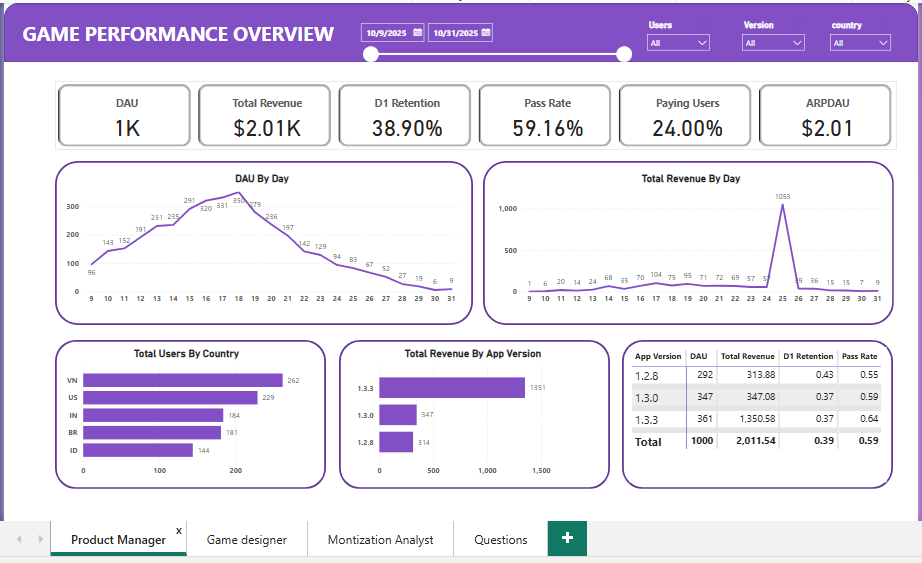

This screenshot's page, from the dashboard's own definition file:
{"tool":"powerbi","page":{"name":"Product Manager","canvas":[1500,850],"ordinal":0},"visuals":[{"type":"shape","box":[1014.1,553,444.7,244.5],"z":0},{"type":"shape","box":[549.7,553,444.7,244.5],"z":1000},{"type":"shape","box":[83.7,553,444.7,244.5],"z":2000},{"type":"shape","box":[786,259.3,674.4,269.1],"z":3000},{"type":"shape","box":[83.7,259.3,685.9,269.1],"z":4000},{"type":"shape","box":[0,0,1499.8,96.8],"z":5000},{"type":"textbox","box":[21.3,23,528.4,87],"z":6000},{"type":"cardVisual","fields":{"Data":["_Measures.DAU","_Measures.total revenue","_Measures.d1 retention","_Measures.pass rate","_Measures.% paying users","_Measures.ARPDAU"]},"box":[83.7,128,1381.7,113.2],"z":7000},{"type":"clusteredBarChart","title":"Total Users By Country","fields":{"Y":["_Measures.total users"],"Category":["Cleaned_data_gameapp.country"]},"box":[96.8,564.5,405.3,221.5],"z":8000},{"type":"clusteredBarChart","title":"Total Revenue By App Version","fields":{"Y":["_Measures.total revenue"],"Category":["Cleaned_data_gameapp.app_version"]},"box":[572.7,564.5,393.8,221.5],"z":9000},{"type":"lineChart","title":"DAU By Day","fields":{"Category":["Cleaned_data_gameapp.event_time_utc.Variation.Date Hierarchy.Day"],"Y":["_Measures.DAU"]},"box":[96.8,277.3,653.1,226.4],"z":10000},{"type":"lineChart","title":"Total Revenue By Day","fields":{"Category":["Cleaned_data_gameapp.event_time_utc.Variation.Date Hierarchy.Day"],"Y":["_Measures.total revenue"]},"box":[805.7,277.3,643.2,226.4],"z":11000},{"type":"pivotTable","fields":{"Rows":["Cleaned_data_gameapp.app_version"],"Values":["_Measures.DAU","_Measures.total revenue","_Measures.d1 retention","_Measures.pass rate"]},"box":[1025.6,564.5,423.4,221.5],"z":12000},{"type":"slicer","fields":{"Values":["Cleaned_data_gameapp.app_version"]},"box":[1201.4,22.6,123.3,74.7],"z":13000},{"type":"slicer","fields":{"Values":["Cleaned_data_gameapp.country"]},"box":[1345,23.3,120,73.3],"z":14000},{"type":"slicer","fields":{"Values":["Cleaned_data_gameapp.event_time_utc"]},"box":[572.9,22.6,465.3,86.8],"z":15000},{"type":"slicer","fields":{"Values":["Cleaned_data_gameapp.user_id"]},"box":[1045.1,22.6,123.3,72.9],"z":16000}]}

Visuals, with their boxes on the page's 1500x850 design canvas (x1, y1, x2, y2). These are canvas units, not pixel positions in the 922x563 screenshot, which may show the page scaled, cropped or inside an application window:
shape: 1014/553/1459/798
shape: 550/553/994/798
shape: 84/553/528/798
shape: 786/259/1460/528
shape: 84/259/770/528
shape: 0/0/1500/97
textbox: 21/23/550/110
cardVisual - _Measures.DAU x _Measures.total revenue: 84/128/1465/241
"Total Users By Country" clusteredBarChart: 97/564/502/786
"Total Revenue By App Version" clusteredBarChart: 573/564/966/786
"DAU By Day" lineChart: 97/277/750/504
"Total Revenue By Day" lineChart: 806/277/1449/504
pivotTable - Cleaned_data_gameapp.app_version x _Measures.DAU: 1026/564/1449/786
slicer - Cleaned_data_gameapp.app_version: 1201/23/1325/97
slicer - Cleaned_data_gameapp.country: 1345/23/1465/97
slicer - Cleaned_data_gameapp.event_time_utc: 573/23/1038/109
slicer - Cleaned_data_gameapp.user_id: 1045/23/1168/96
